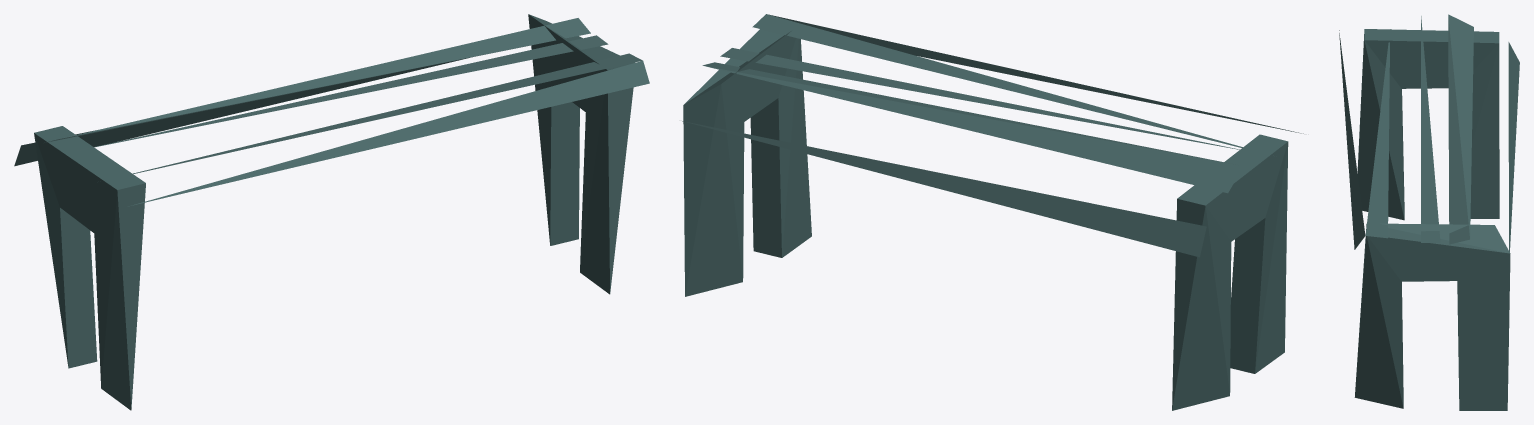
File: cove-bench.lod2.glb
3 renders of one model, left to right at view 1: azimuth 30°, elevation 25°; view 2: azimuth 150°, elevation 25°; view 3: azimuth 270°, elevation 25°, orthographic. The views are drawn at different scales.
Parts seen in each view (by area): view 1: Bench_wooden_01_Bench_wooden_01_0; view 2: Bench_wooden_01_Bench_wooden_01_0; view 3: Bench_wooden_01_Bench_wooden_01_0.
Part boxes in pixels (bbox=[...]): Bench_wooden_01_Bench_wooden_01_0: bbox=[14, 14, 649, 410]; Bench_wooden_01_Bench_wooden_01_0: bbox=[682, 14, 1303, 410]; Bench_wooden_01_Bench_wooden_01_0: bbox=[1339, 14, 1519, 410].
Size of the model in its own units: 1.6 by 0.671 by 0.5817.
